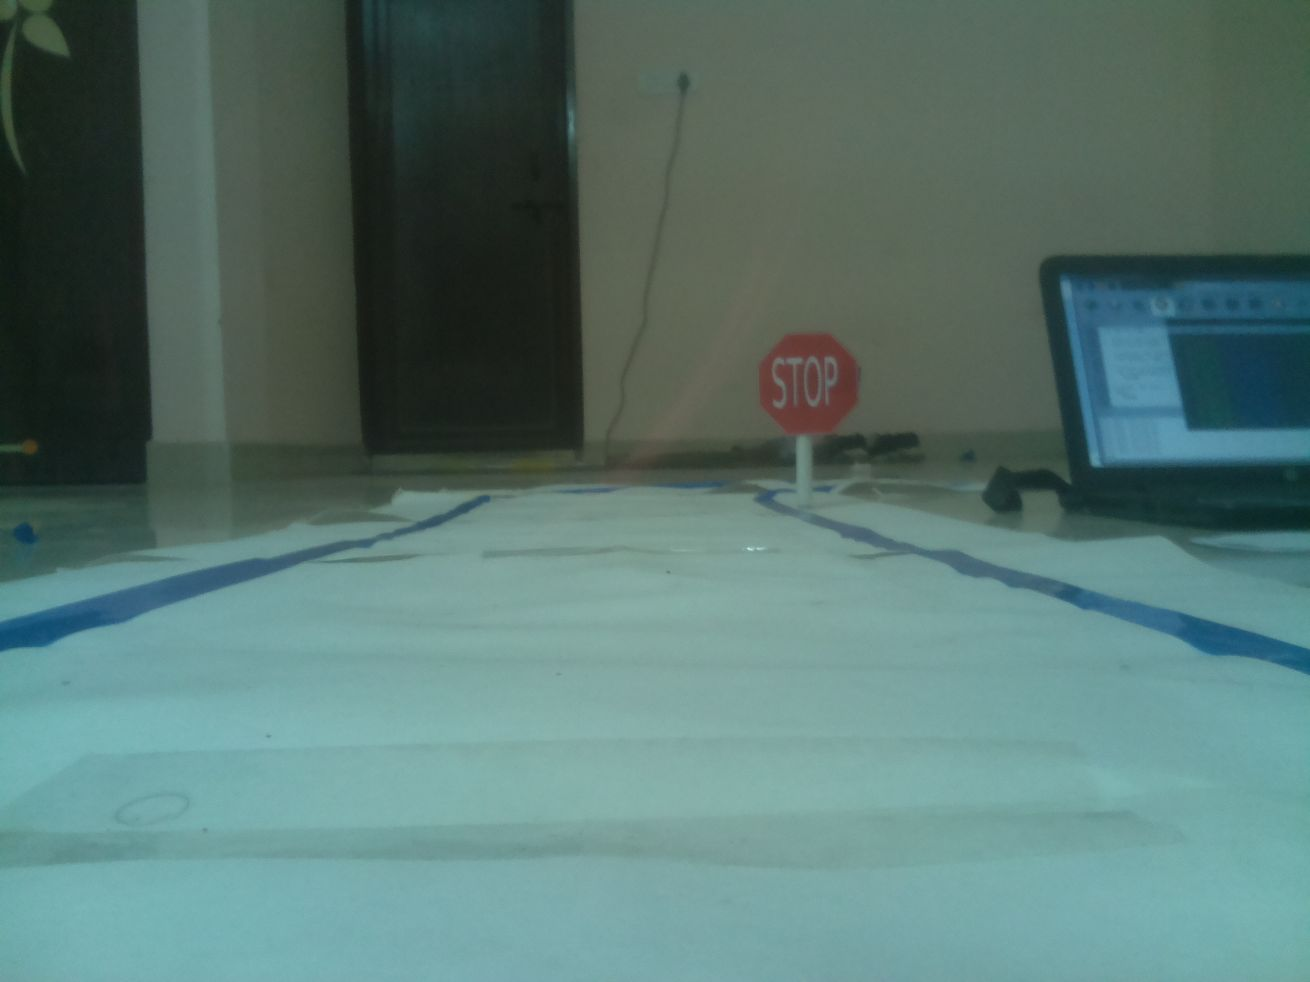stop: (755, 329, 863, 441)
